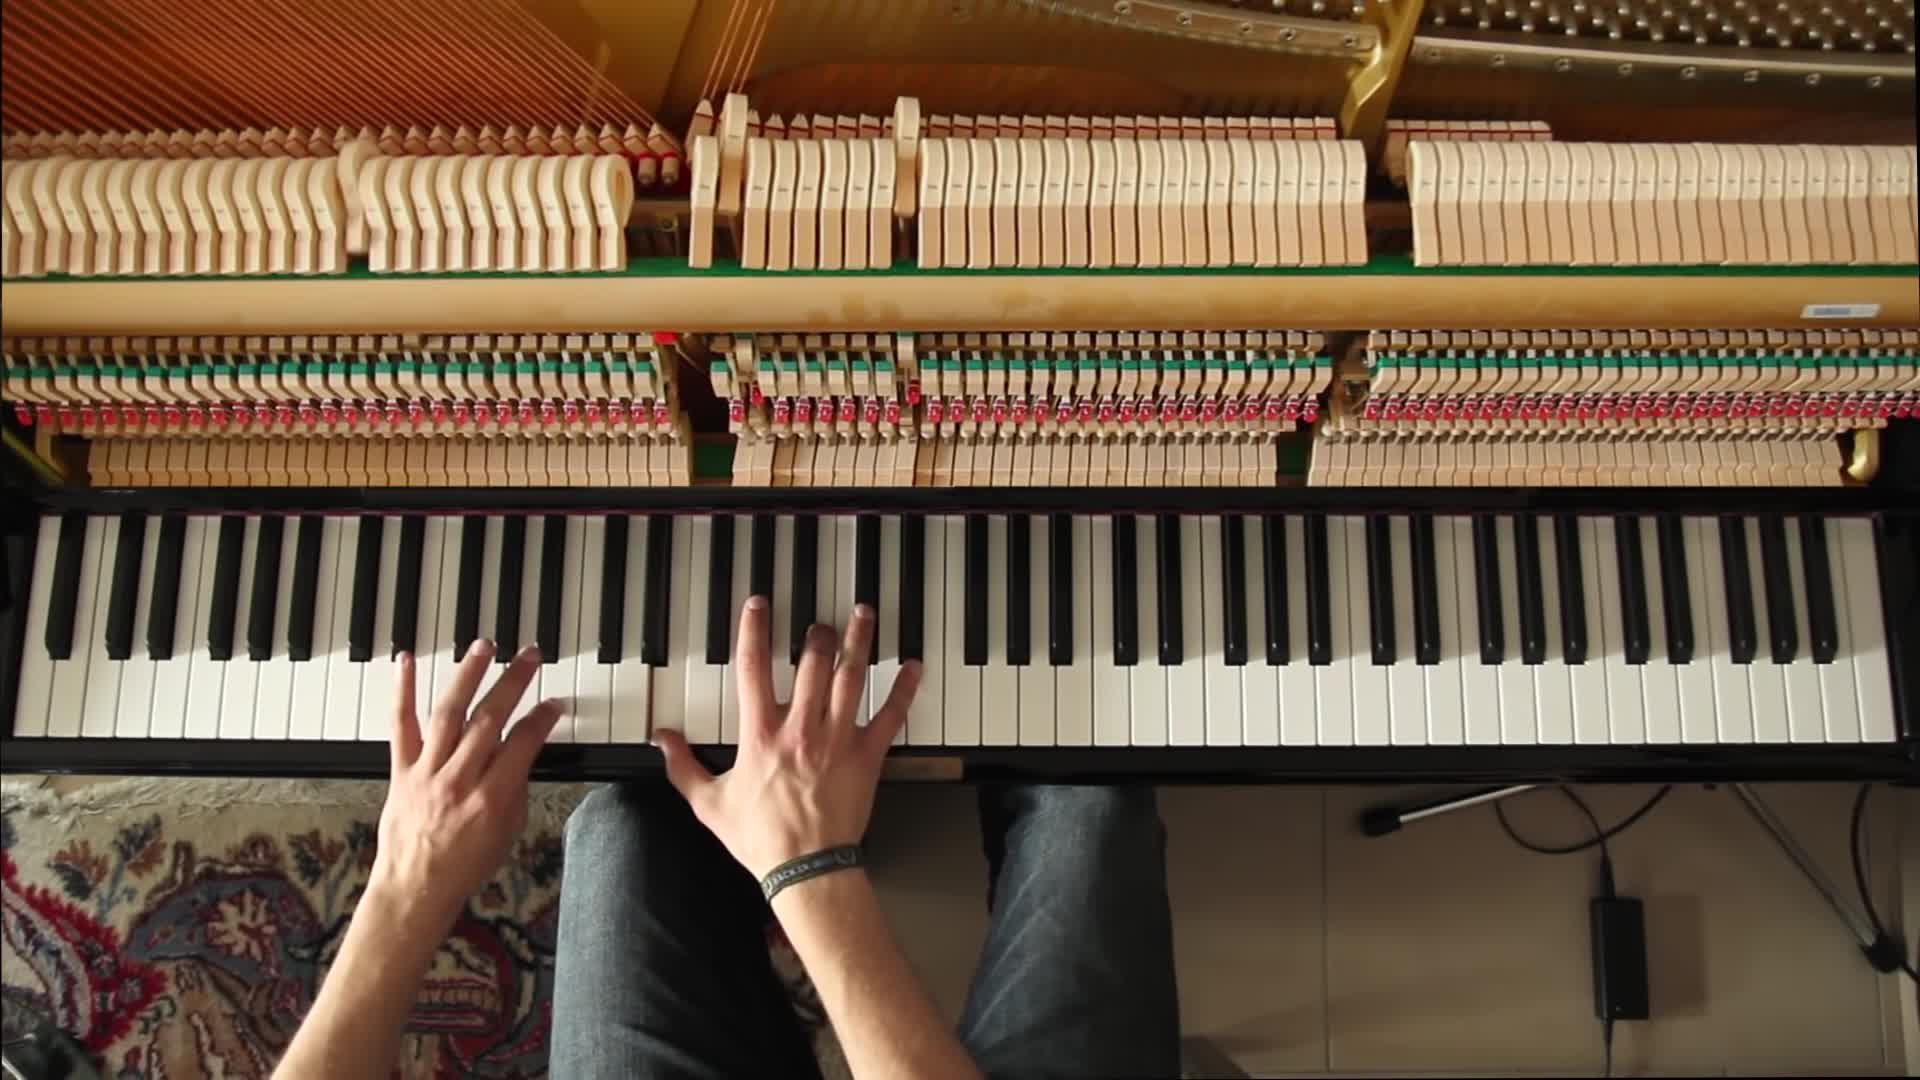left: (371, 638, 568, 880)
right: (654, 599, 922, 856)
